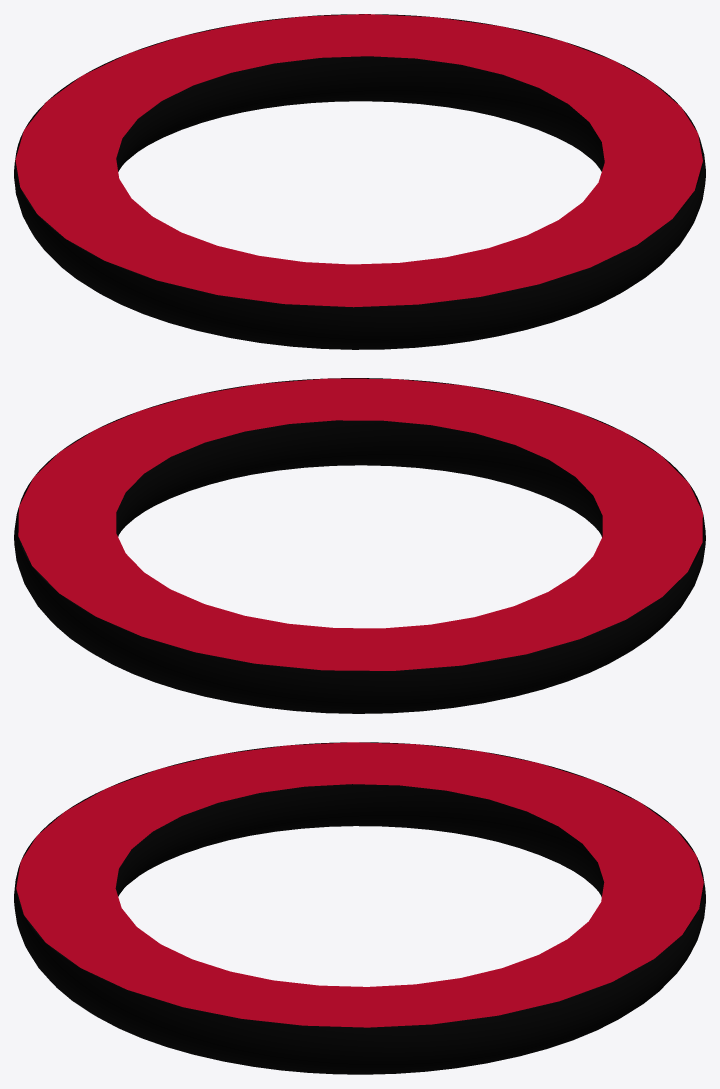
File: Ring2.glb
3 views of the same model, one above another, from view 1: azimuth 30°, elevation 25°; view 2: azimuth 150°, elevation 25°; view 3: azimuth 270°, elevation 25° (orthographic).
Visible parts, largest first — view 1: do-nut 2 top, do0but 2 bottom; view 2: do-nut 2 top, do0but 2 bottom; view 3: do-nut 2 top, do0but 2 bottom.
Boxes of the visible parts, x1,y1,x2,y2 form: do-nut 2 top: [15, 14, 702, 307]; do0but 2 bottom: [14, 14, 705, 349]; do-nut 2 top: [18, 378, 702, 670]; do0but 2 bottom: [14, 378, 705, 713]; do-nut 2 top: [16, 742, 703, 1027]; do0but 2 bottom: [14, 742, 705, 1074].
Size of the model in its own units: 29.96 by 3.01 by 29.96.
